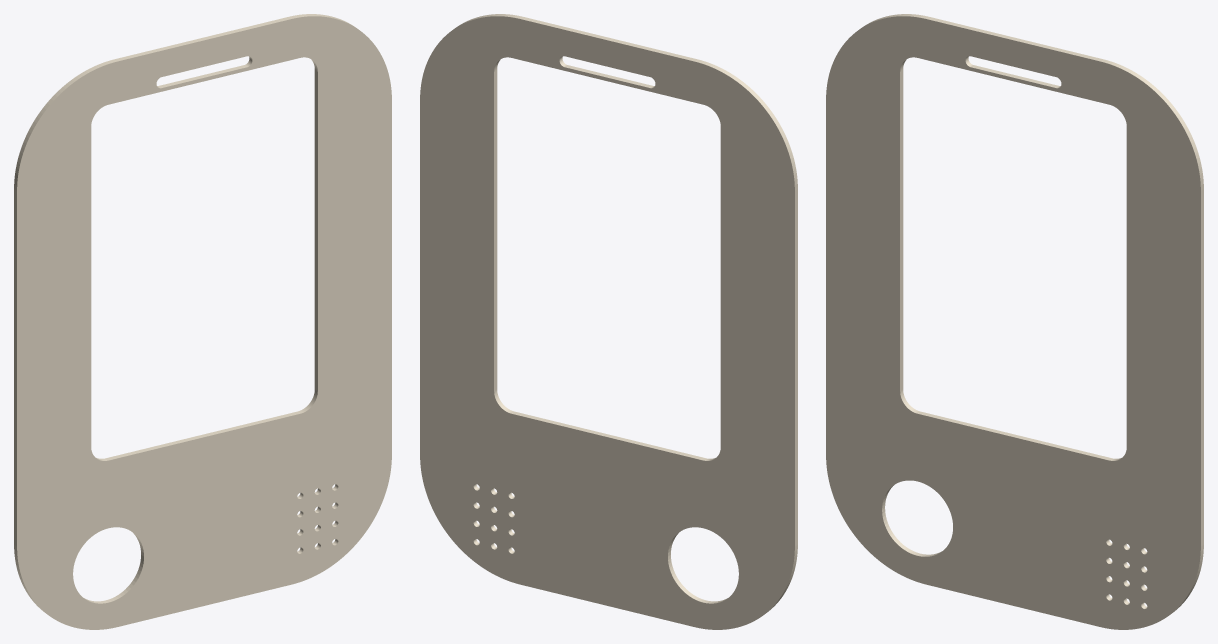
The model's file is 05_control_panel.obj.
3 views of the same model, side by side, from view 1: azimuth 30°, elevation 25°; view 2: azimuth 150°, elevation 25°; view 3: azimuth 330°, elevation 25° (orthographic).
Parts seen in each view (by area): view 1: 05_control_panel; view 2: 05_control_panel; view 3: 05_control_panel.
Part boxes in pixels (x1=…): 05_control_panel: x1=14, y1=14, x2=391, y2=629; 05_control_panel: x1=420, y1=14, x2=797, y2=629; 05_control_panel: x1=826, y1=14, x2=1203, y2=629.
Size of the model in its own units: 86 by 124 by 1.2.
